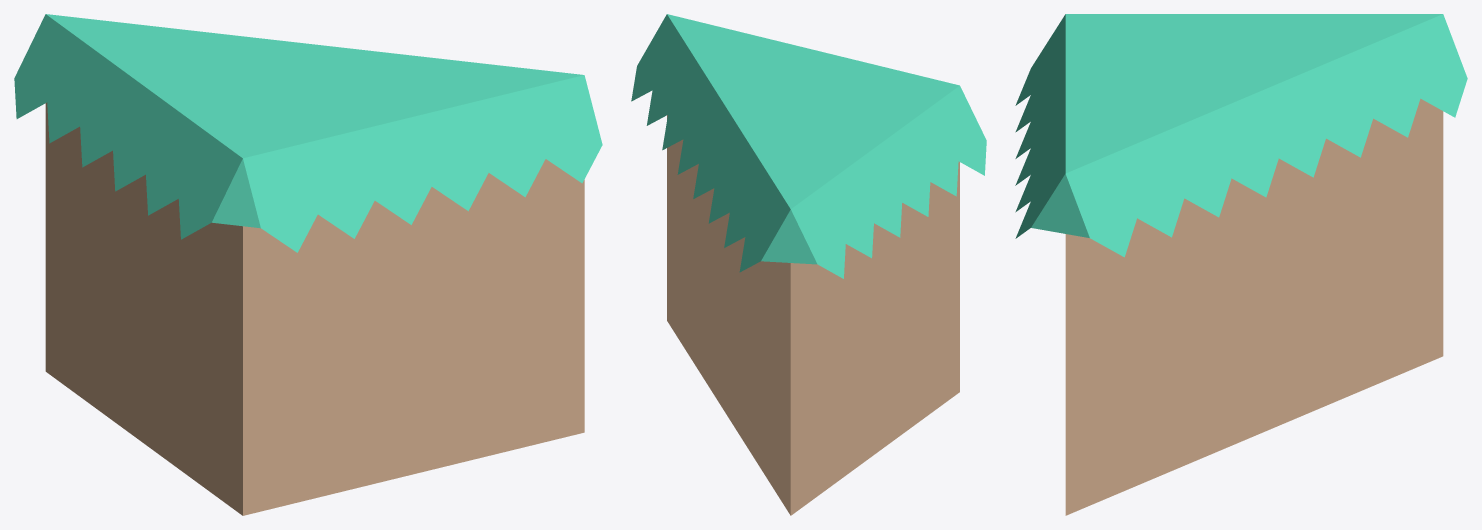
Rendered from blockCornerLarge.glb.
The picture shows the model from 3 angles, left to right: view 1: azimuth 30°, elevation 25°; view 2: azimuth 150°, elevation 25°; view 3: azimuth 270°, elevation 25°; orthographic projection. The views are drawn at different scales.
Parts seen in each view (by area): view 1: blockCornerLarge(Clone); view 2: blockCornerLarge(Clone); view 3: blockCornerLarge(Clone).
Part boxes in pixels (x1,y1,x2,y2): blockCornerLarge(Clone): [14, 14, 602, 515]; blockCornerLarge(Clone): [631, 14, 986, 515]; blockCornerLarge(Clone): [1015, 14, 1467, 515].
Size of the model in its own units: 1.2 by 1 by 1.2.
